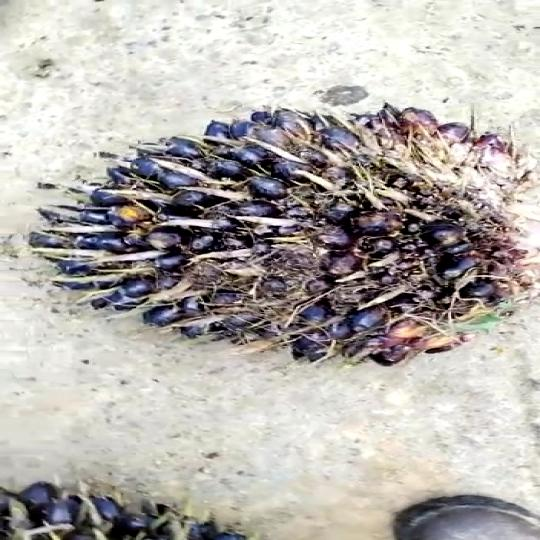mentah: (35, 97, 540, 366)
